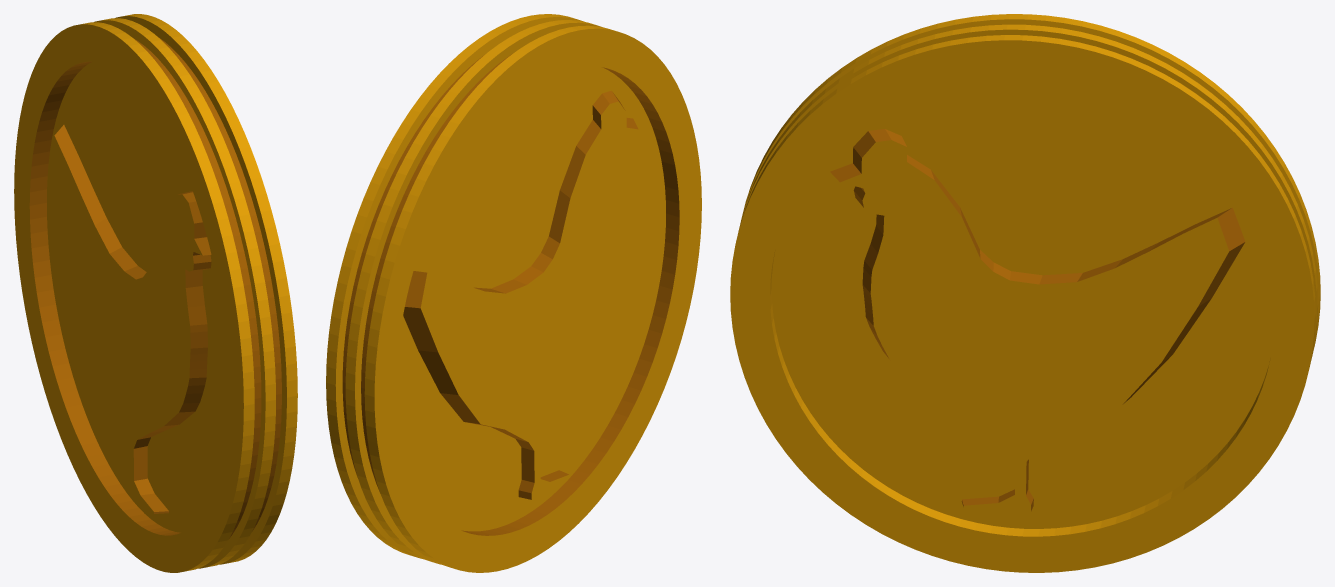
The model's file is Coin.fbx neuu.fbx.
The picture shows the model from 3 angles, left to right: view 1: azimuth 30°, elevation 25°; view 2: azimuth 150°, elevation 25°; view 3: azimuth 270°, elevation 25°; orthographic projection. The views are drawn at different scales.
Visible parts, largest first — view 1: Coin; view 2: Coin; view 3: Coin.
Boxes of the visible parts, left/top/right/bottom form: Coin: left=14, top=14, right=297, bottom=572; Coin: left=326, top=14, right=701, bottom=572; Coin: left=730, top=14, right=1320, bottom=572.
Bounding box in the file's own units: 40.88 × 200 × 201.
